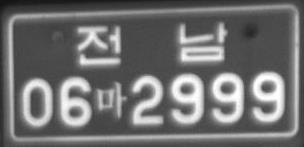0: (22, 77, 54, 126)
2: (131, 74, 164, 125)
6: (59, 75, 92, 126)
9: (210, 71, 245, 124), (170, 72, 205, 124), (251, 70, 286, 122)
마: (96, 81, 127, 119)
전남_D: (77, 21, 228, 65)
